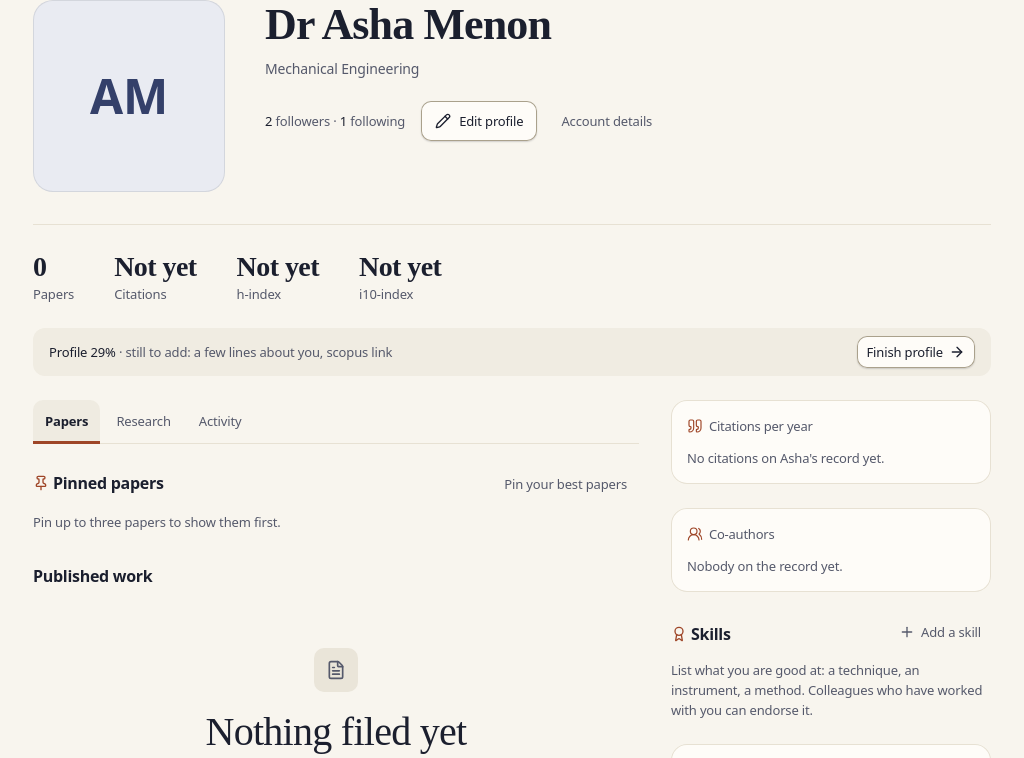
Scenario: your own profile › shows how complete it is, with the next step for each missing part
Check: the text "Profile 29%" is shown, box left=49, top=343, right=116, bottom=361
Step 1. Click the button "Finish profile" → (916, 352), box left=856, top=336, right=975, bottom=368
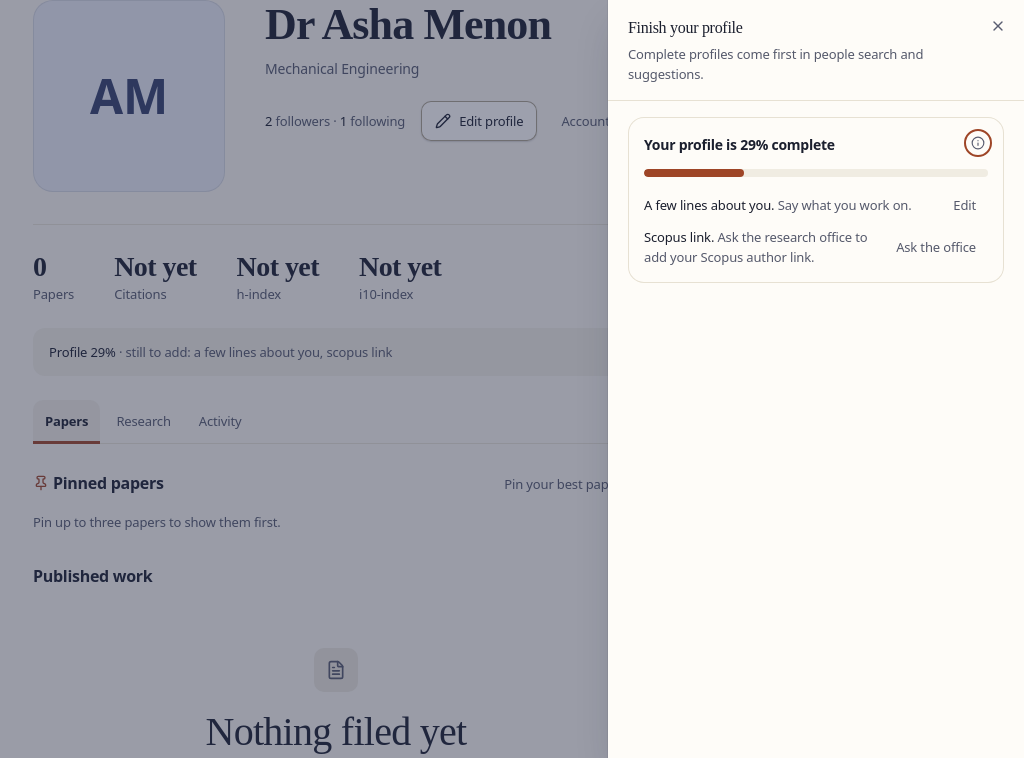
Check: the heading "Your profile is 29% complete" is shown, box left=644, top=133, right=835, bottom=157
Check: the text "Say what you work on." is shown, box left=778, top=196, right=912, bottom=214
